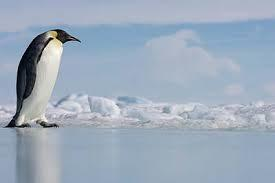emporer: (2, 25, 85, 136)
